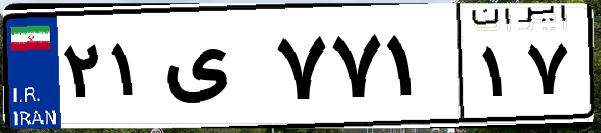1: (385, 28, 445, 110), (475, 38, 525, 113), (110, 28, 158, 98)
2: (57, 26, 110, 100)
7: (270, 28, 330, 110), (330, 28, 385, 110), (525, 38, 570, 115)
ی: (158, 20, 270, 120)
